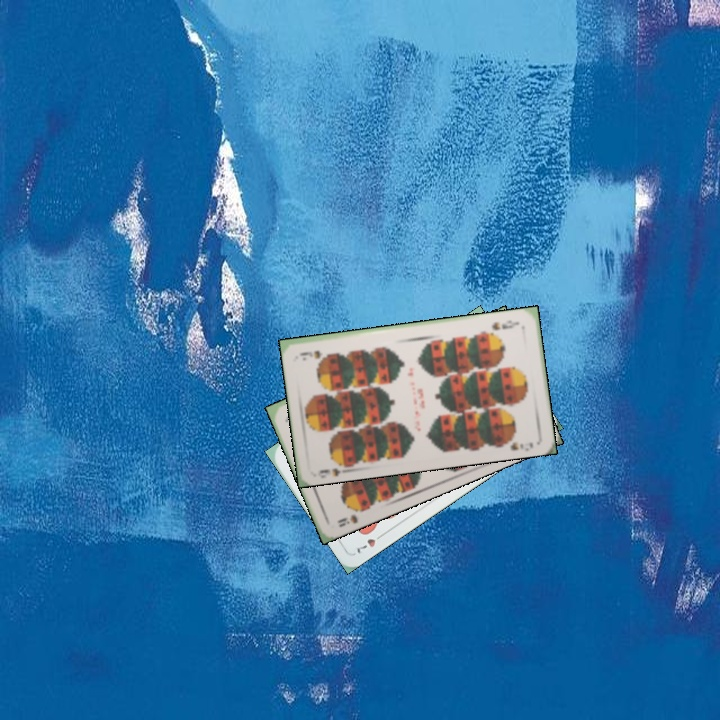H7: (353, 528, 387, 556)
S9: (333, 504, 369, 530), (315, 457, 352, 478), (488, 316, 522, 333)
